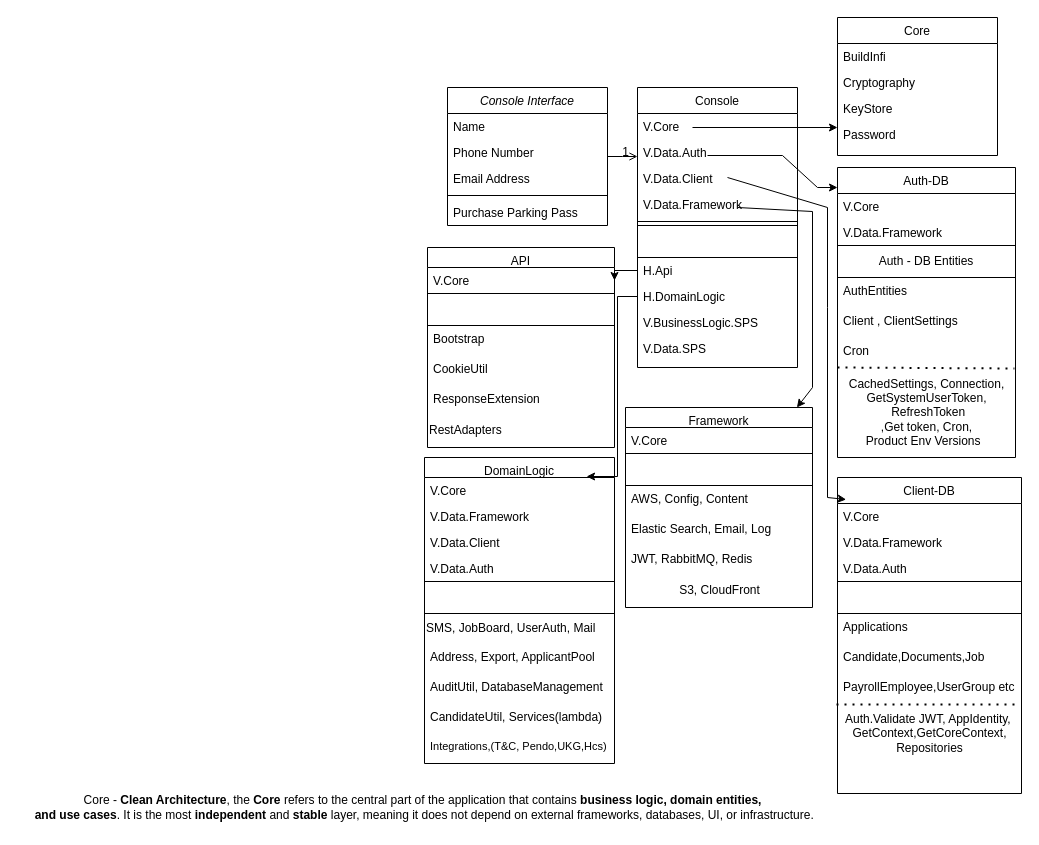
The diagram is 1039 pixels wide and 845 high, and some of its shapes have lost their labels. The centre of each missing label's shape, as x and y in pixels:
"Applicant / Admin" goes at pixel 717 241.
"Business rules and core application behavior" goes at pixel 519 597.
"centralizes framework-specific configurations." goes at pixel 718 469.
"Client - DB Entities" goes at pixel 929 597.
"Handle RESTful services, responses, cookies, and application bootstrapping" goes at pixel 520 309.
